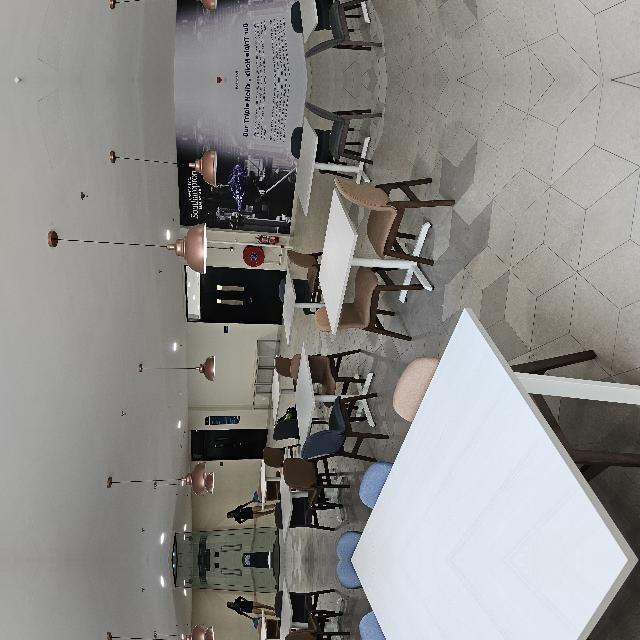obstacle: (0, 408, 238, 640), (0, 410, 238, 640), (218, 387, 390, 537), (348, 362, 466, 456), (218, 583, 390, 640), (102, 365, 216, 419), (18, 349, 100, 413)
person: (37, 298, 59, 354)
